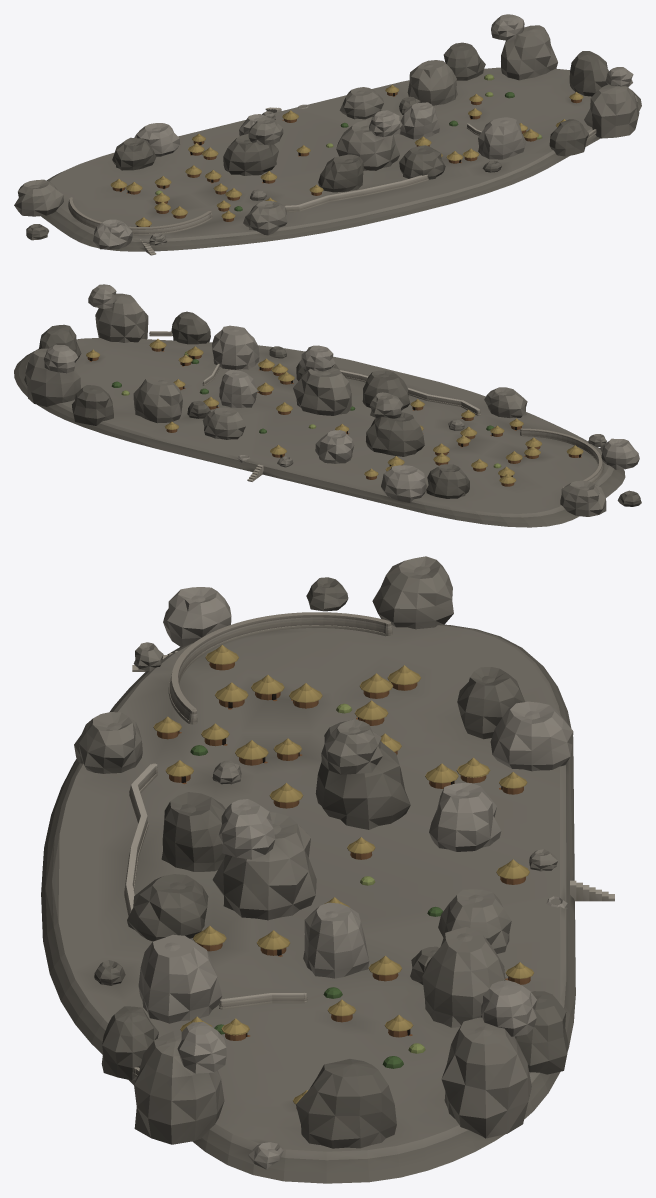
File: hill-complex-1100.glb
3 views of the same model, one above another, from view 1: azimuth 30°, elevation 25°; view 2: azimuth 150°, elevation 25°; view 3: azimuth 270°, elevation 25° (orthographic). The views are drawn at different scales.
Visible parts, largest first — view 1: p0_kopje, p3_houses, p1_walls, p4_trees; view 2: p0_kopje, p3_houses, p1_walls, p4_trees; view 3: p0_kopje, p3_houses, p1_walls, p4_trees.
Boxes of the visible parts, bbox=[...] form: p0_kopje: bbox=[14, 14, 641, 251]; p3_houses: bbox=[110, 85, 583, 226]; p1_walls: bbox=[68, 107, 596, 255]; p4_trees: bbox=[155, 74, 542, 211]; p0_kopje: bbox=[14, 284, 641, 527]; p3_houses: bbox=[86, 339, 583, 486]; p1_walls: bbox=[149, 331, 603, 487]; p4_trees: bbox=[111, 351, 501, 468]; p0_kopje: bbox=[41, 556, 575, 1183]; p3_houses: bbox=[153, 645, 533, 1108]; p1_walls: bbox=[124, 612, 614, 1077]; p4_trees: bbox=[190, 703, 442, 1068].
Bounding box in the file's own units: 283 × 26.92 × 116.
